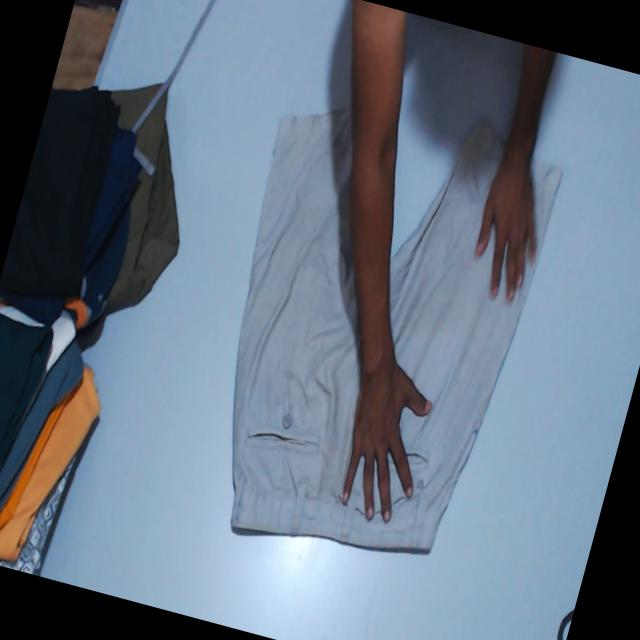new-garment: (231, 109, 534, 552), (532, 163, 561, 251)
